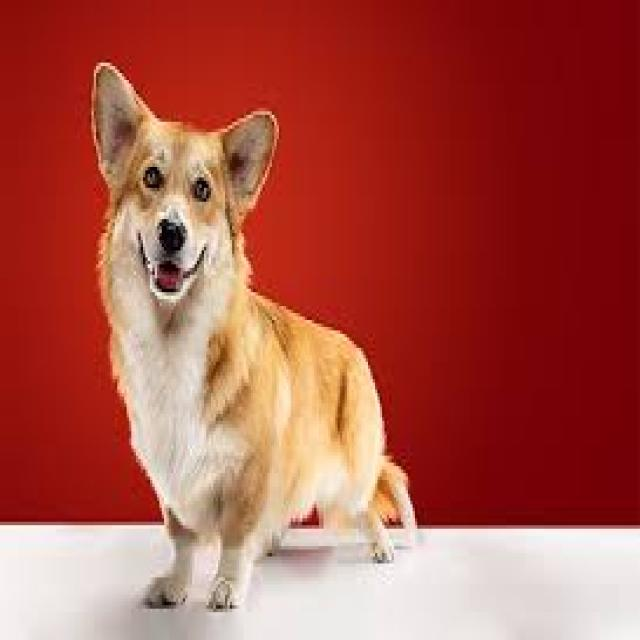CORGI: (78, 36, 433, 615)
